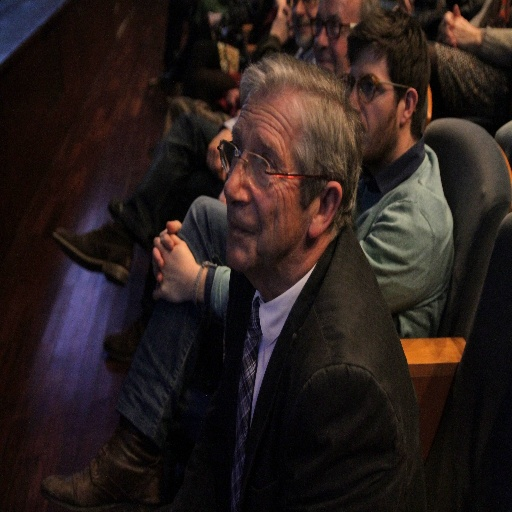hand: (151, 219, 181, 283), (204, 125, 234, 182), (448, 16, 478, 51), (438, 1, 457, 53), (269, 5, 290, 41), (280, 0, 292, 29), (219, 184, 225, 206)
